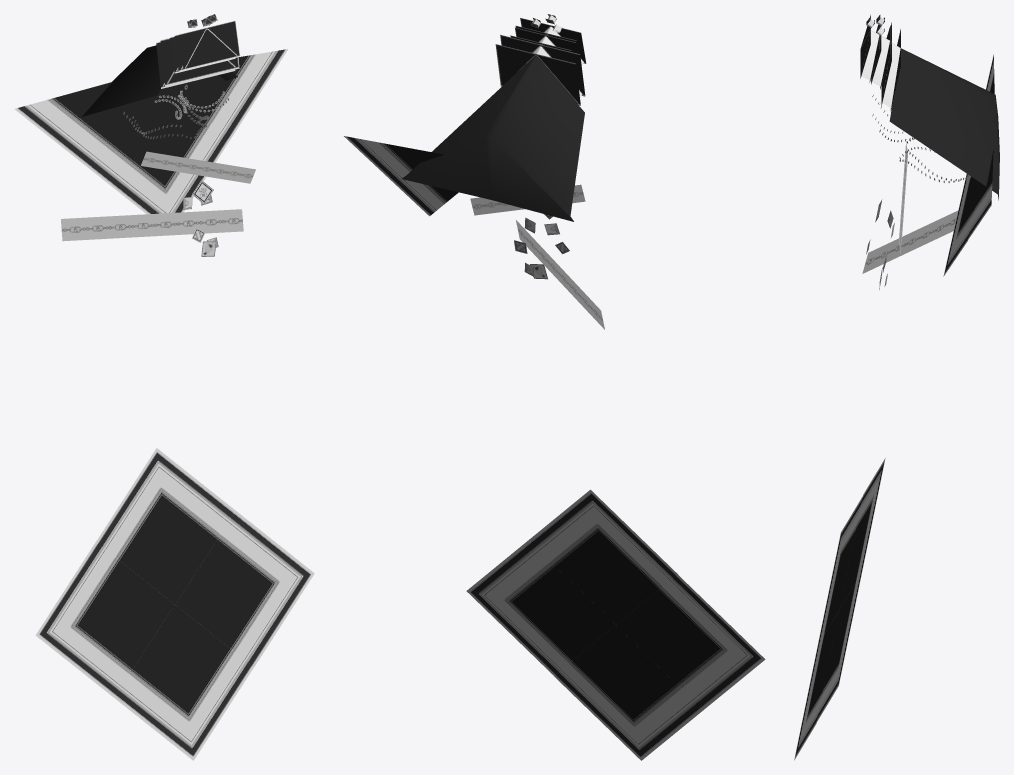
3 views of the same model, side by side, from view 1: azimuth 30°, elevation 25°; view 2: azimuth 150°, elevation 25°; view 3: azimuth 270°, elevation 25° (orthographic). The views are drawn at different scales.
Visible parts, largest first — view 1: bordo_01.1 (×2), bordo_01 (×2), bordo_01.3 (×2), bordo_01.2, catena (×8), nero, topgrande2, topgrande2.4; view 2: nero, bordo_01.3 (×2), bordo_01, bordo_01.1, bordo_01.2, topgrande2.5, topgrande2.4; view 3: nero, bordo_01.1 (×2), bordo_01.3 (×2), bordo_01.2, bordo_01, no_alpha.2, no_alpha.1, no_alpha.
Boxes of the visible parts, box(x1,y1,x2,y2) form: bordo_01.1 (×2): box(90, 88, 253, 760); bordo_01 (×2): box(14, 82, 174, 697); bordo_01.3 (×2): box(166, 49, 314, 666); bordo_01.2: box(96, 448, 235, 604); catena (×8): box(61, 209, 243, 241); nero: box(82, 45, 237, 116); topgrande2: box(179, 20, 240, 70); topgrande2.4: box(160, 38, 239, 86); nero: box(401, 56, 584, 221); bordo_01.3 (×2): box(344, 136, 615, 675); bordo_01: box(615, 574, 765, 709); bordo_01.1: box(554, 625, 703, 760); bordo_01.2: box(529, 489, 677, 624); topgrande2.5: box(495, 44, 580, 105); topgrande2.4: box(500, 34, 585, 96); nero: box(889, 48, 999, 200); bordo_01.1 (×2): box(794, 174, 980, 760); bordo_01.3 (×2): box(816, 149, 993, 722); bordo_01.2: box(839, 458, 885, 608); bordo_01: box(817, 497, 862, 645); no_alpha.2: box(882, 42, 900, 108); no_alpha.1: box(872, 36, 889, 86); no_alpha: box(861, 30, 879, 80).
Size of the model in its own units: 1738 by 3637 by 883.
14 materials, 12 textured.
